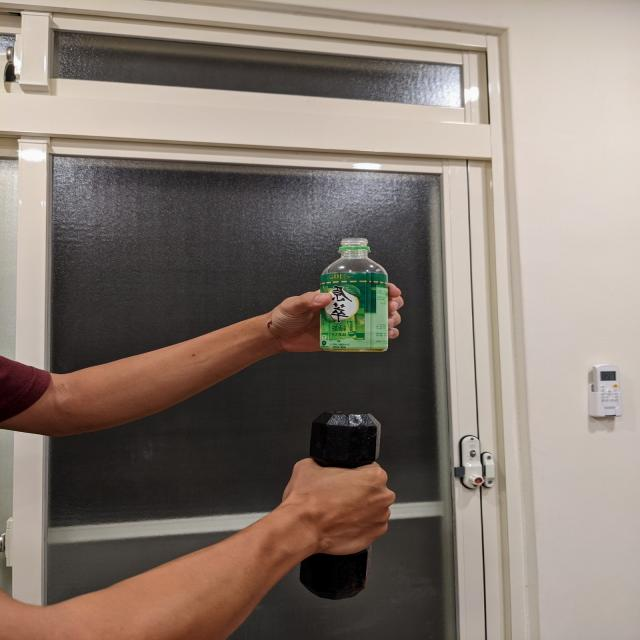bottle: (310, 234, 398, 349)
